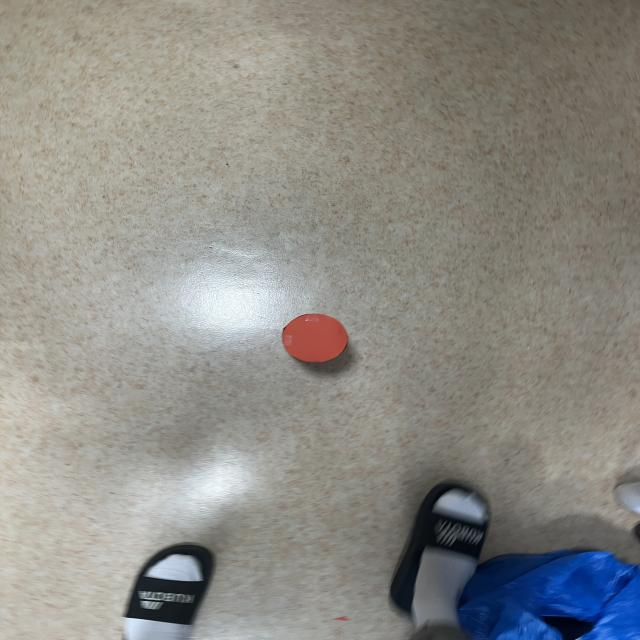przeszkoda: (282, 314, 348, 363)
